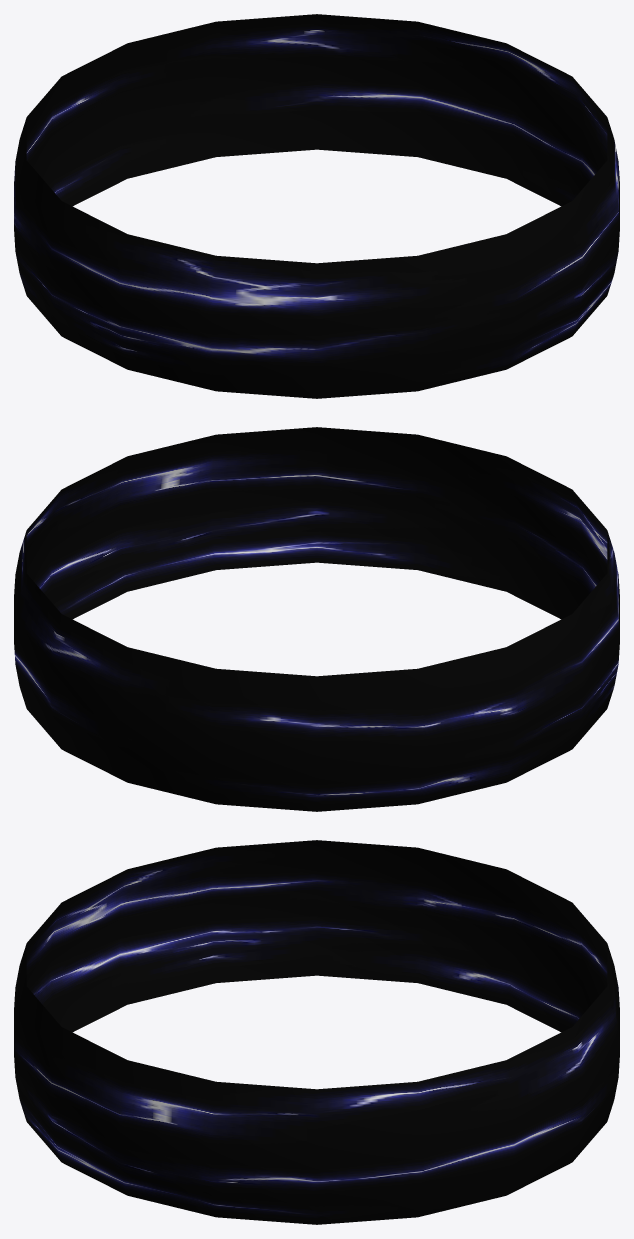
The model's file is 0404_quanxing_M.glb.
The picture shows the model from 3 angles, top to bottom: view 1: azimuth 30°, elevation 25°; view 2: azimuth 150°, elevation 25°; view 3: azimuth 270°, elevation 25°; orthographic projection.
Size of the model in its own units: 2.2 by 0.5348 by 2.17.
Materials: 1 (1 with a texture image).
